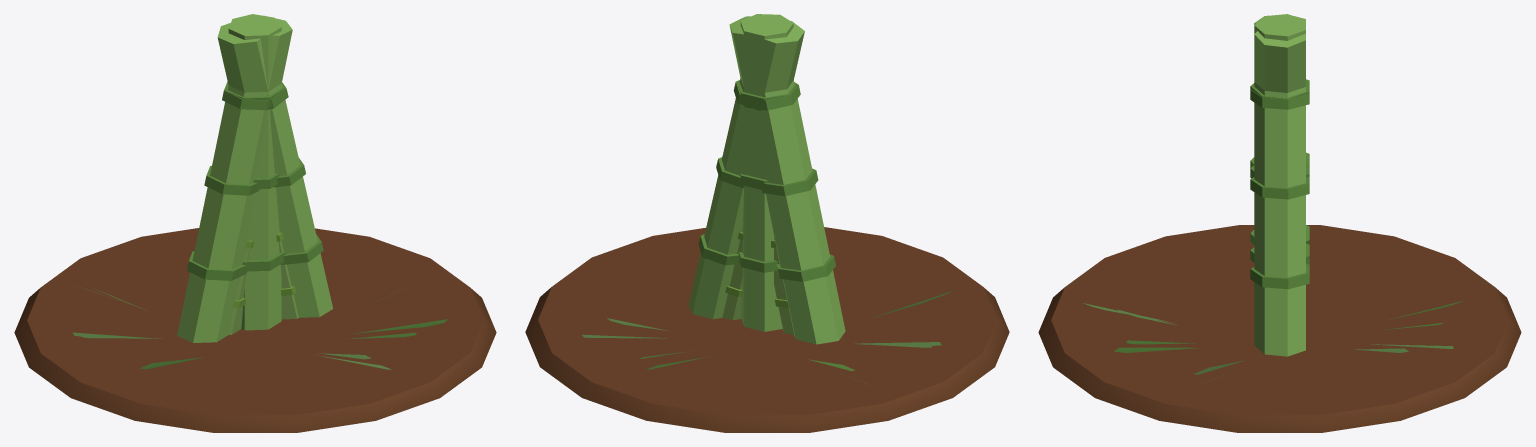
The model's file is sugarcane.glb.
3 renders of one model, left to right at view 1: azimuth 30°, elevation 25°; view 2: azimuth 150°, elevation 25°; view 3: azimuth 270°, elevation 25°, orthographic.
Visible parts, largest first — view 1: crop-sugarcane-giant-2, crop-sugarcane-giant; view 2: crop-sugarcane-giant-2, crop-sugarcane-giant; view 3: crop-sugarcane-giant-2, crop-sugarcane-giant.
Boxes of the visible parts, <box> form: crop-sugarcane-giant-2: <box>14,228,496,432</box>; crop-sugarcane-giant: <box>73,14,447,369</box>; crop-sugarcane-giant-2: <box>525,227,1009,432</box>; crop-sugarcane-giant: <box>582,14,941,382</box>; crop-sugarcane-giant-2: <box>1038,225,1521,432</box>; crop-sugarcane-giant: <box>1083,14,1464,384</box>.
Bounding box in the file's own units: 5.61 × 4.15 × 5.7.
